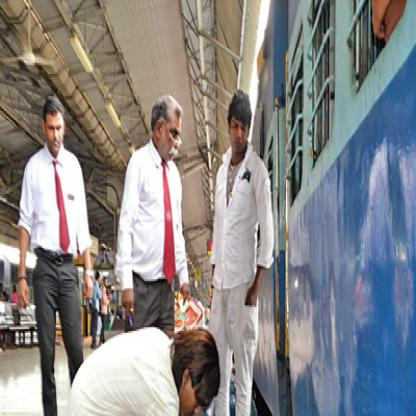Not_Wearing_Mask: (183, 362, 208, 416), (161, 112, 182, 164), (46, 113, 61, 159), (230, 120, 248, 155)
